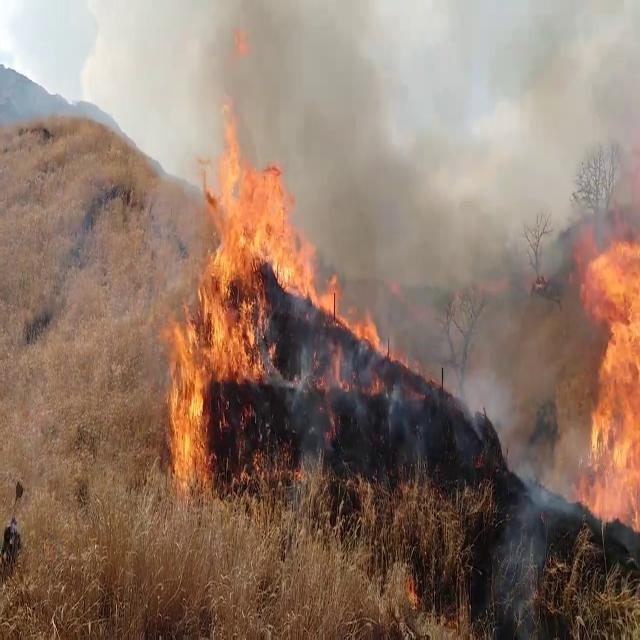Fire: (194, 84, 324, 378), (574, 215, 640, 538), (158, 286, 214, 492), (321, 265, 384, 370)
Smoke: (298, 3, 584, 485)
